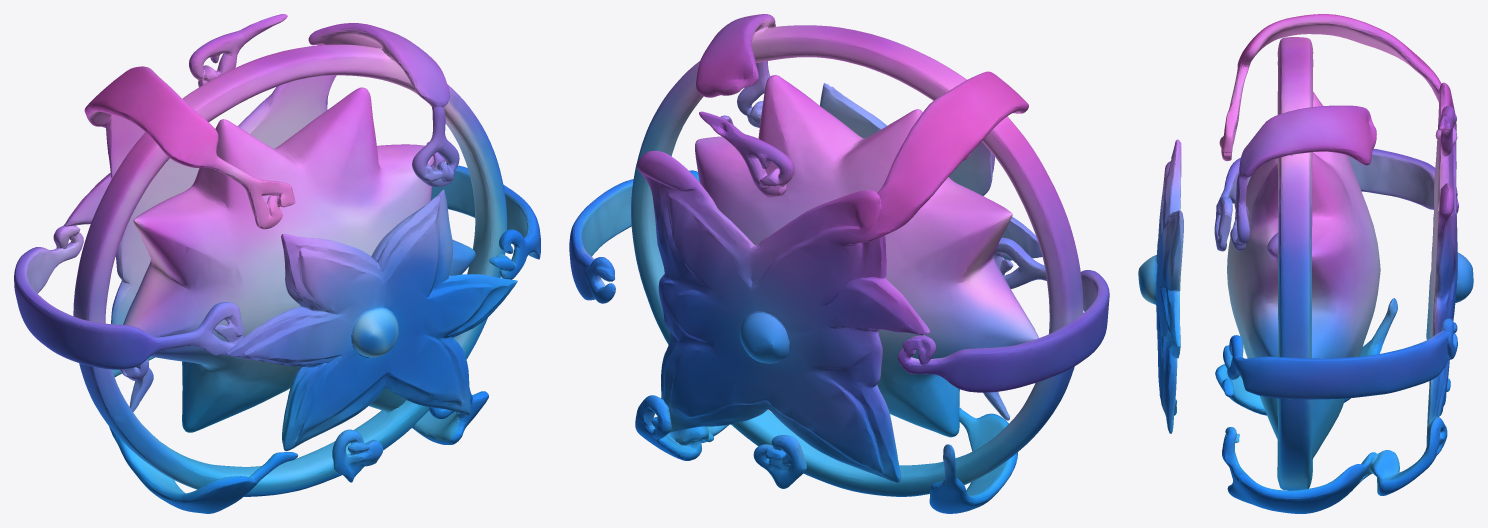
File: IntertwinedFate.fbx
The picture shows the model from 3 angles, left to right: view 1: azimuth 30°, elevation 25°; view 2: azimuth 150°, elevation 25°; view 3: azimuth 270°, elevation 25°; orthographic projection. The views are drawn at different scales.
Parts seen in each view (by area): view 1: model; view 2: model; view 3: model.
Boxes of the visible parts, left/top/right/bottom form: model: left=14, top=14, right=540, bottom=513; model: left=569, top=14, right=1109, bottom=513; model: left=1138, top=14, right=1473, bottom=513.
Size of the model in its own units: 189 by 164 by 122.
1 material, 1 textured.
